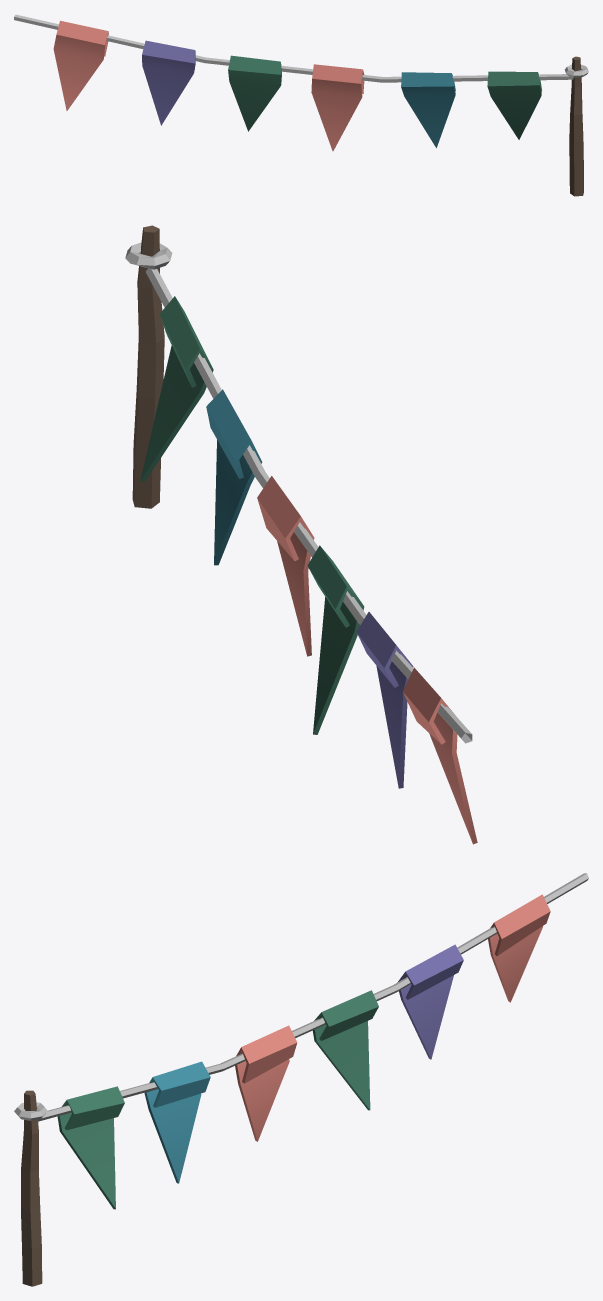
Rendered from fence6flags.fbx.
3 views of the same model, one above another, from view 1: azimuth 30°, elevation 25°; view 2: azimuth 150°, elevation 25°; view 3: azimuth 270°, elevation 25° (orthographic). The views are drawn at different scales.
Visible parts, largest first — view 1: fence13; view 2: fence13; view 3: fence13.
Part boxes in pixels (bbox=[...]): fence13: bbox=[14, 14, 588, 196]; fence13: bbox=[125, 225, 477, 844]; fence13: bbox=[14, 873, 588, 1286].
Bounding box in the file's own units: 348 × 122 × 337.
